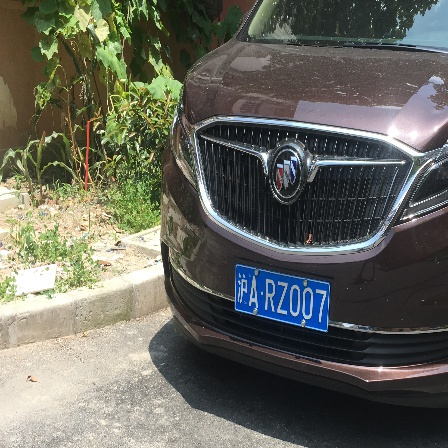plate: (230, 260, 337, 334)
